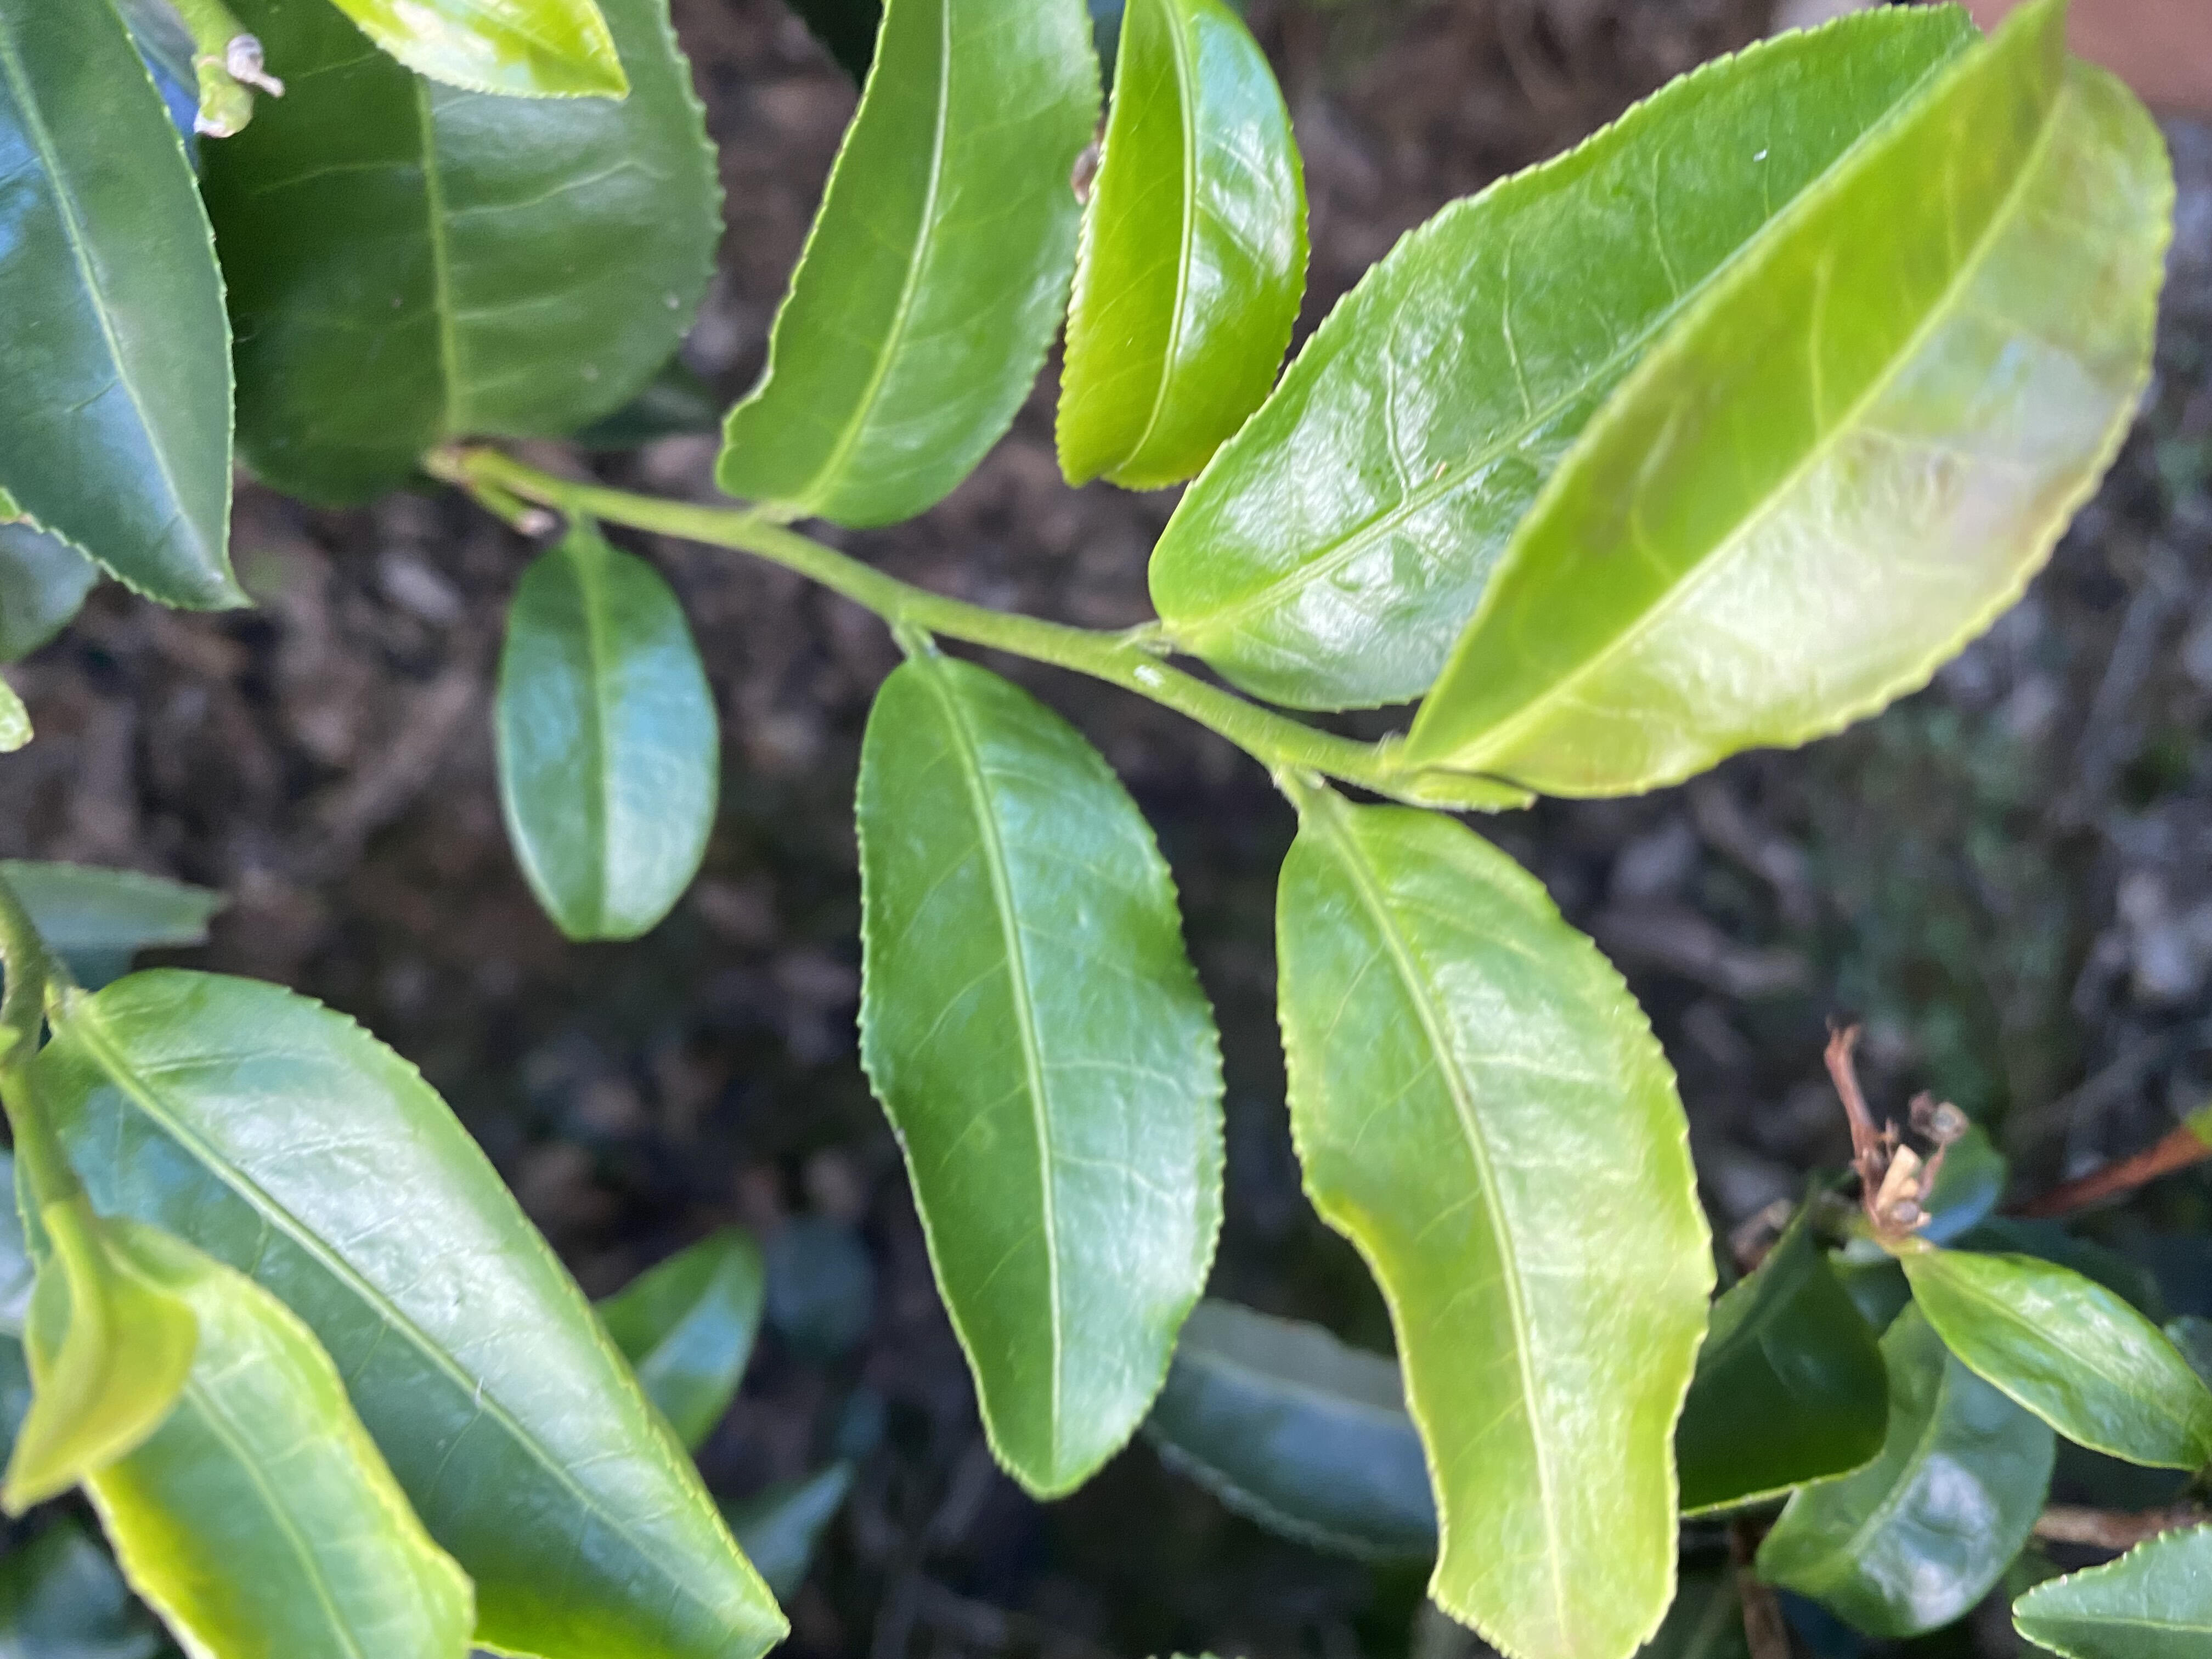healthy: (1277, 800, 1710, 1654), (852, 645, 1238, 1502), (486, 525, 726, 948)
tanju_high: (714, 3, 1108, 537)
tanju_low: (1406, 3, 2179, 802)
